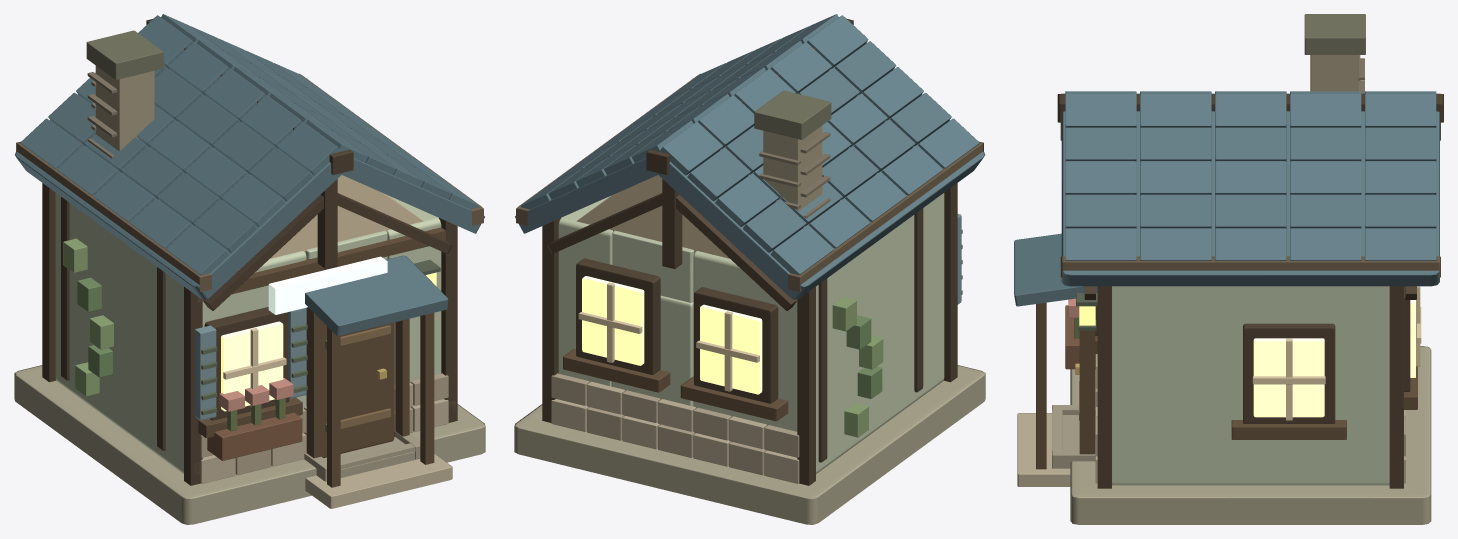
File: workshop-0-2.glb
3 views of the same model, side by side, from view 1: azimuth 30°, elevation 25°; view 2: azimuth 150°, elevation 25°; view 3: azimuth 270°, elevation 25° (orthographic). The views are drawn at different scales.
Parts seen in each view (by area): view 1: workshop-2-0, door-hinge; view 2: workshop-2-0; view 3: workshop-2-0.
Boxes of the visible parts, x1,y1,x2,y2 form: workshop-2-0: (14,14,485,524); door-hinge: (321,320,394,457); workshop-2-0: (514,14,985,524); workshop-2-0: (1014,14,1443,524).
Bounding box in the file's own units: 1.88 × 2.19 × 2.24.
